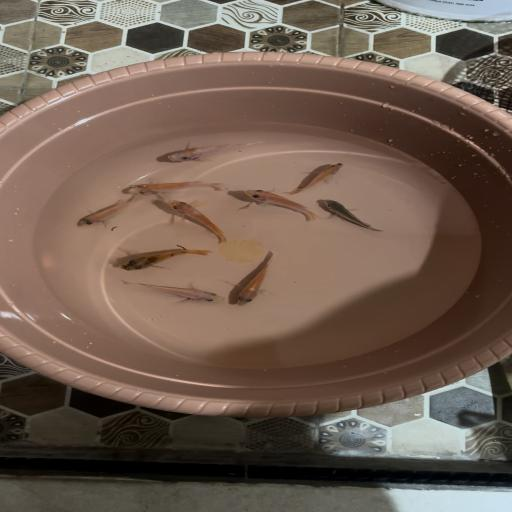nila: (111, 276, 228, 308), (160, 199, 238, 244), (108, 242, 217, 273), (150, 139, 276, 164), (61, 194, 143, 232), (234, 248, 284, 310), (242, 187, 317, 226), (119, 177, 236, 201), (313, 198, 387, 234), (287, 160, 344, 196)
